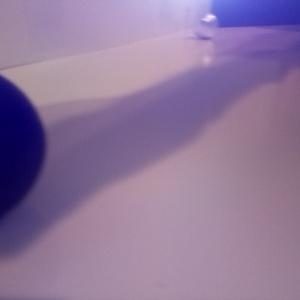alive_ball: (193, 13, 219, 39)
dead_ball: (1, 74, 47, 218)
